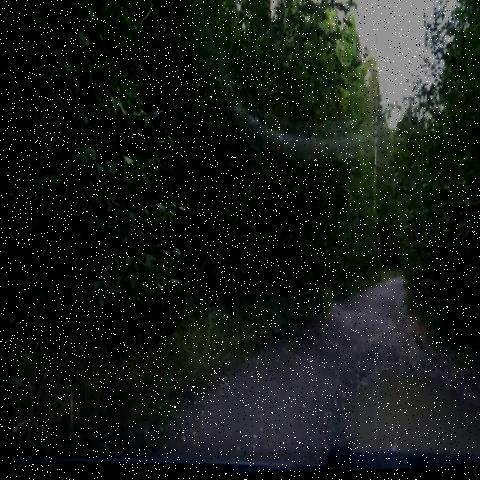pothole: (336, 362, 480, 461), (289, 328, 346, 354), (333, 304, 365, 320)
